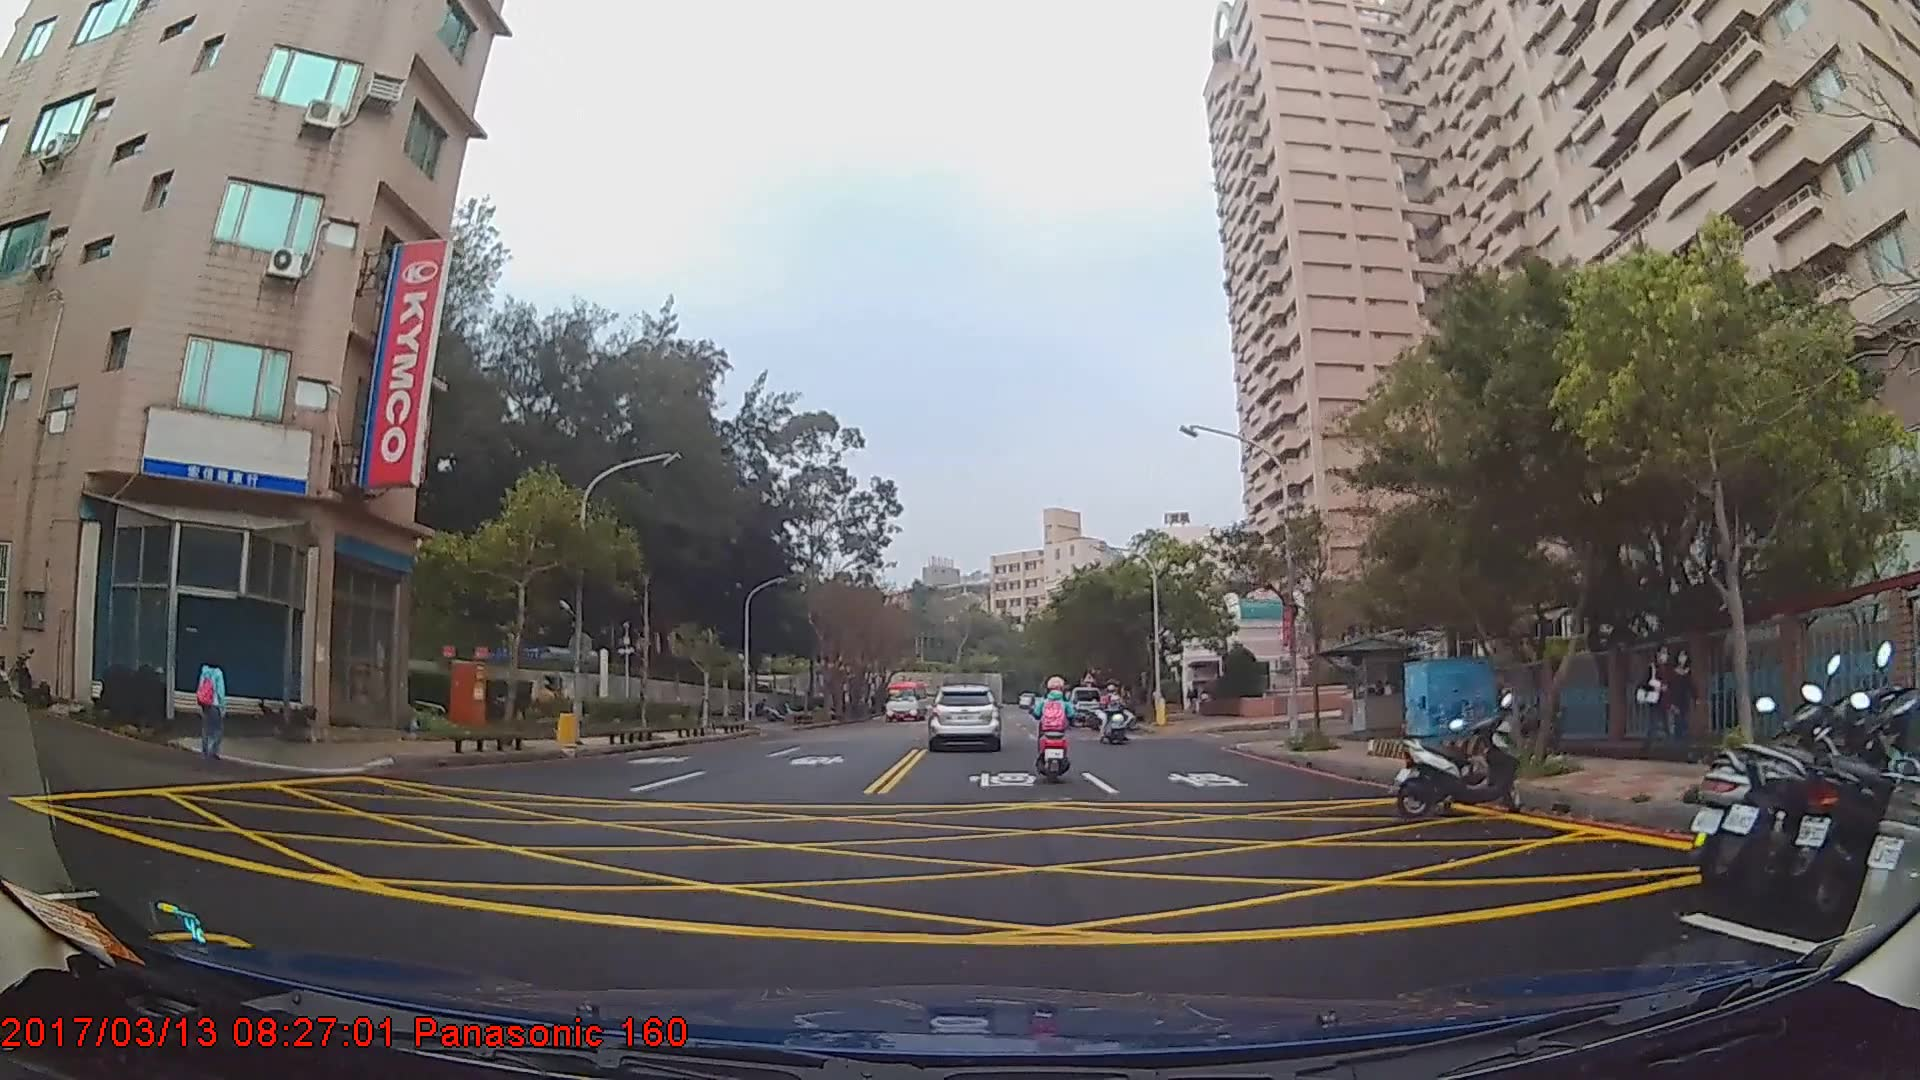pedestrian: (1635, 644, 1680, 764), (1661, 648, 1701, 767), (196, 643, 228, 767)
rider: (1030, 678, 1074, 789), (1098, 683, 1129, 740)
vehicle: (925, 680, 999, 745), (882, 677, 929, 721)
